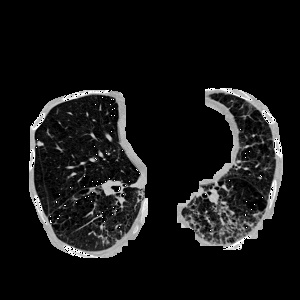PN: (37, 141, 43, 147)
